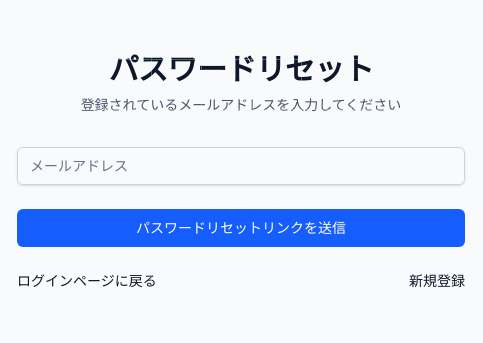
Scenario: ForgotPasswordPage › form submission › shows generic error message when error is not an Error instance
In the field with placeholder "メールアドレス": [241, 166] box 17,147 -> 465,185, type "test@example.com"
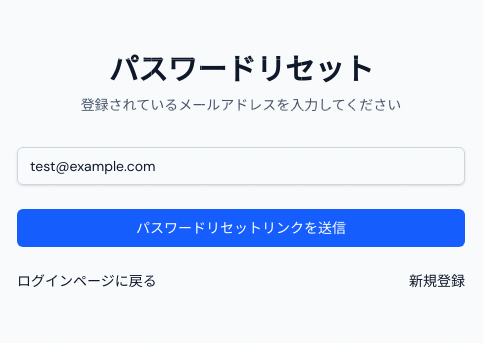
Click the button "パスワードリセットリンクを送信": [241, 228] box 17,209 -> 465,247
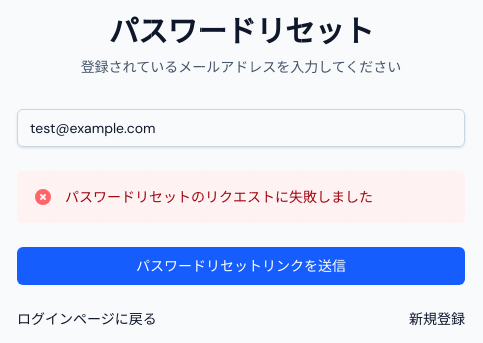
Check: the text "パスワードリセットのリクエストに失敗しました" is shown, box 65,187 -> 373,207
